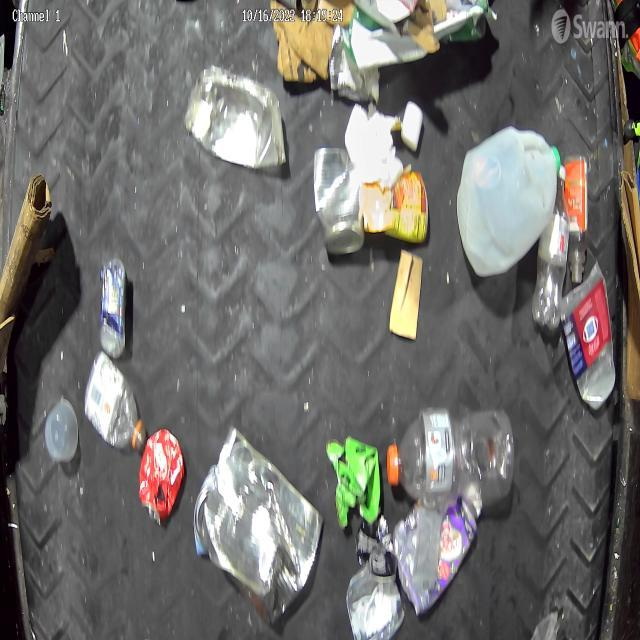can: (193, 428, 324, 624), (314, 144, 364, 256), (365, 168, 430, 244), (139, 426, 185, 524), (329, 30, 382, 100)
milk_jug: (456, 127, 562, 278)
plastic_bottle: (386, 408, 516, 508), (83, 351, 147, 453), (532, 166, 570, 330)
